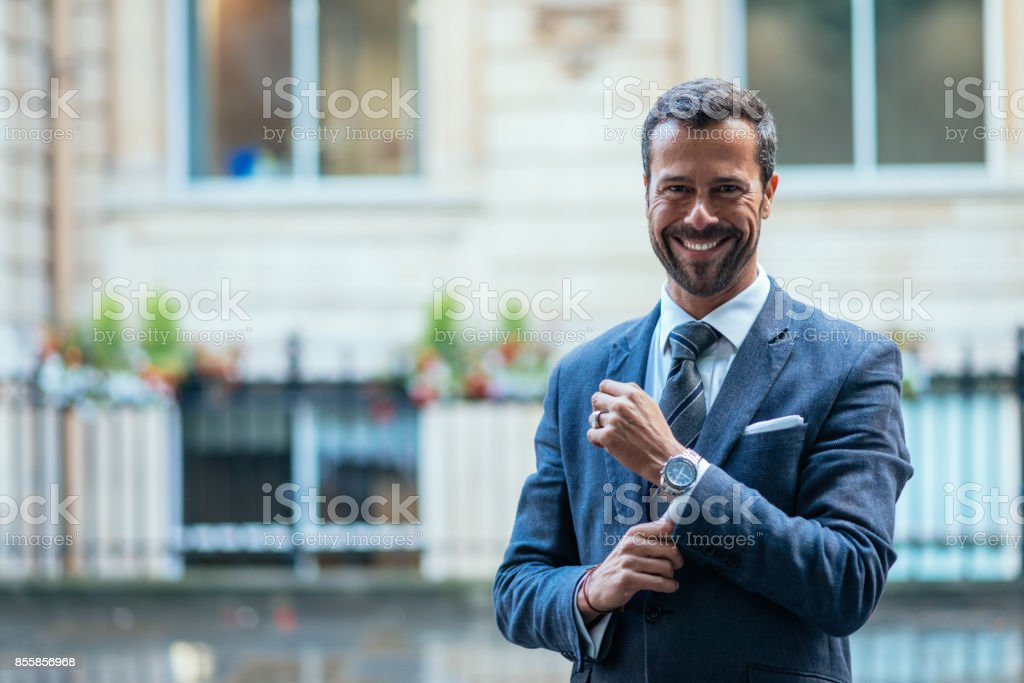human: (489, 78, 925, 683)
